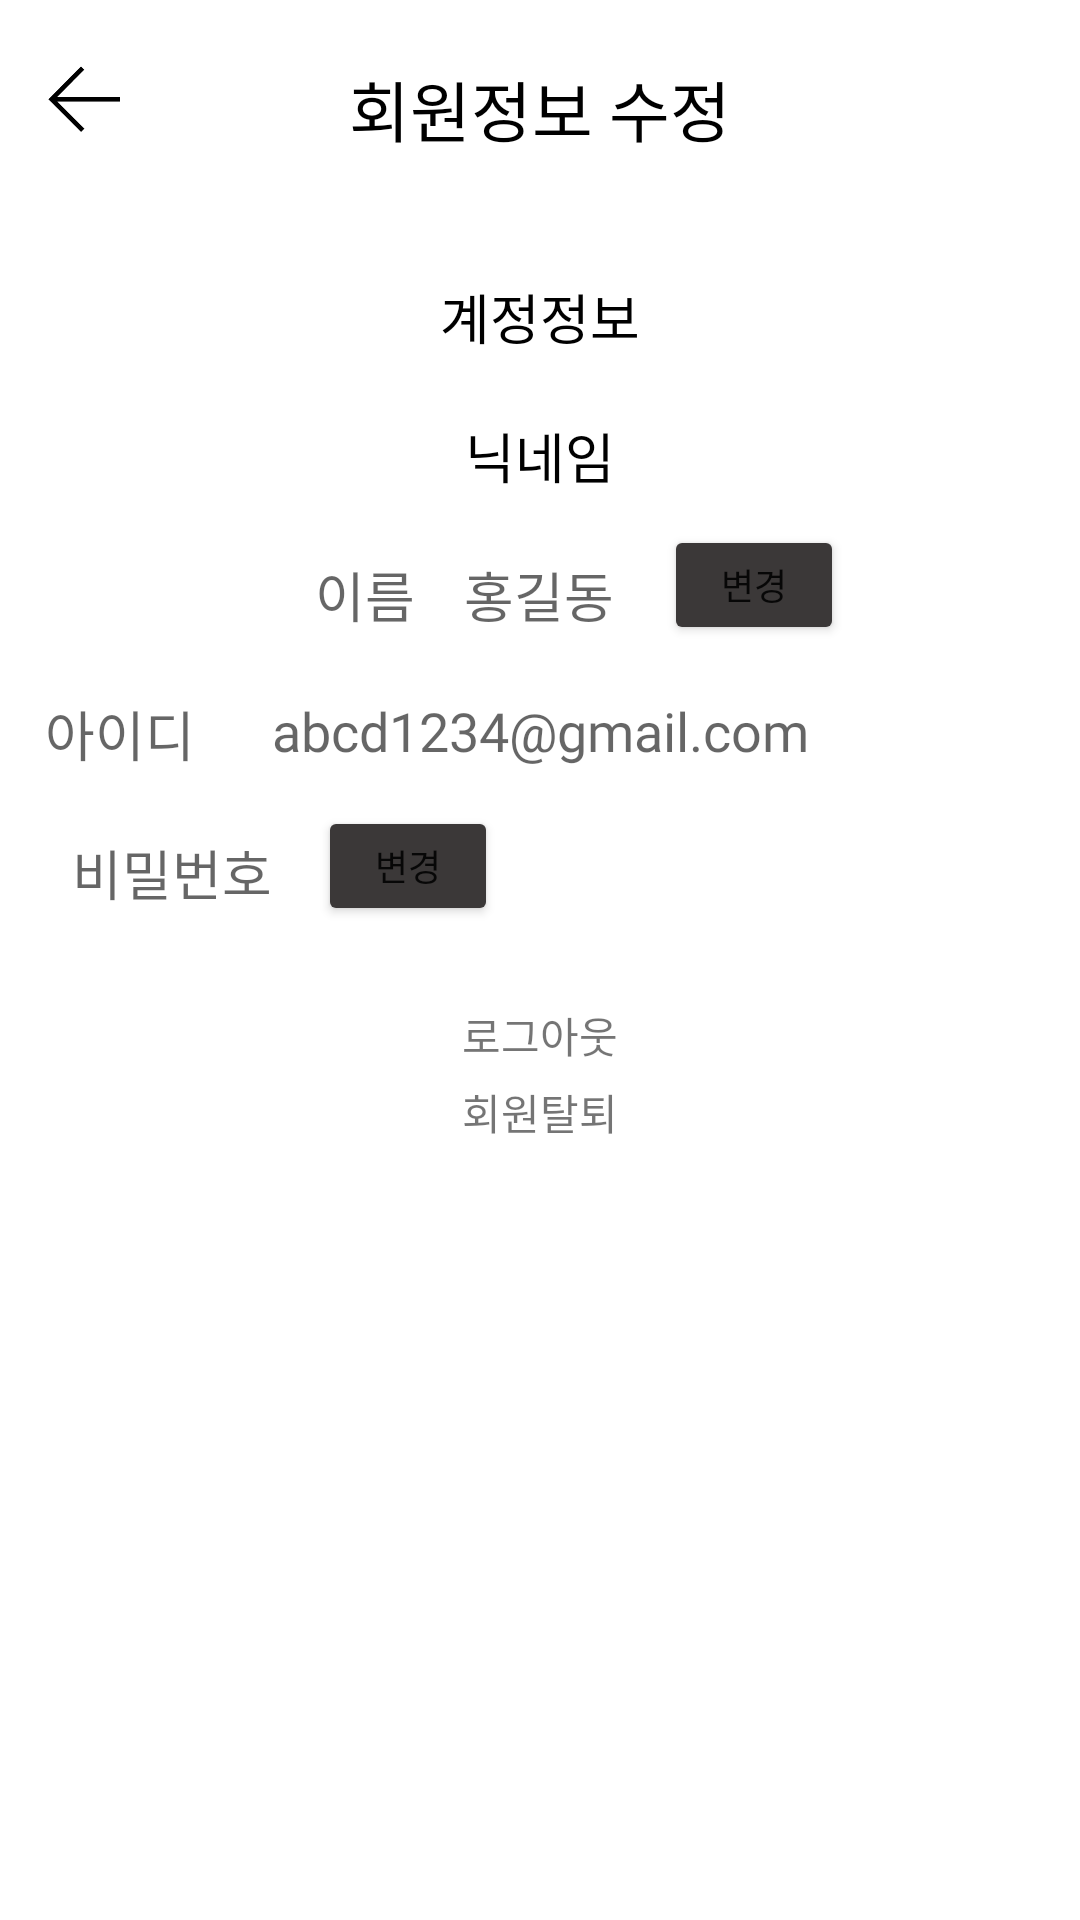

Where to tap for icons on this 1080x1920 app screen, as (x=x, y=y):
backbutton: (x=84, y=99)
